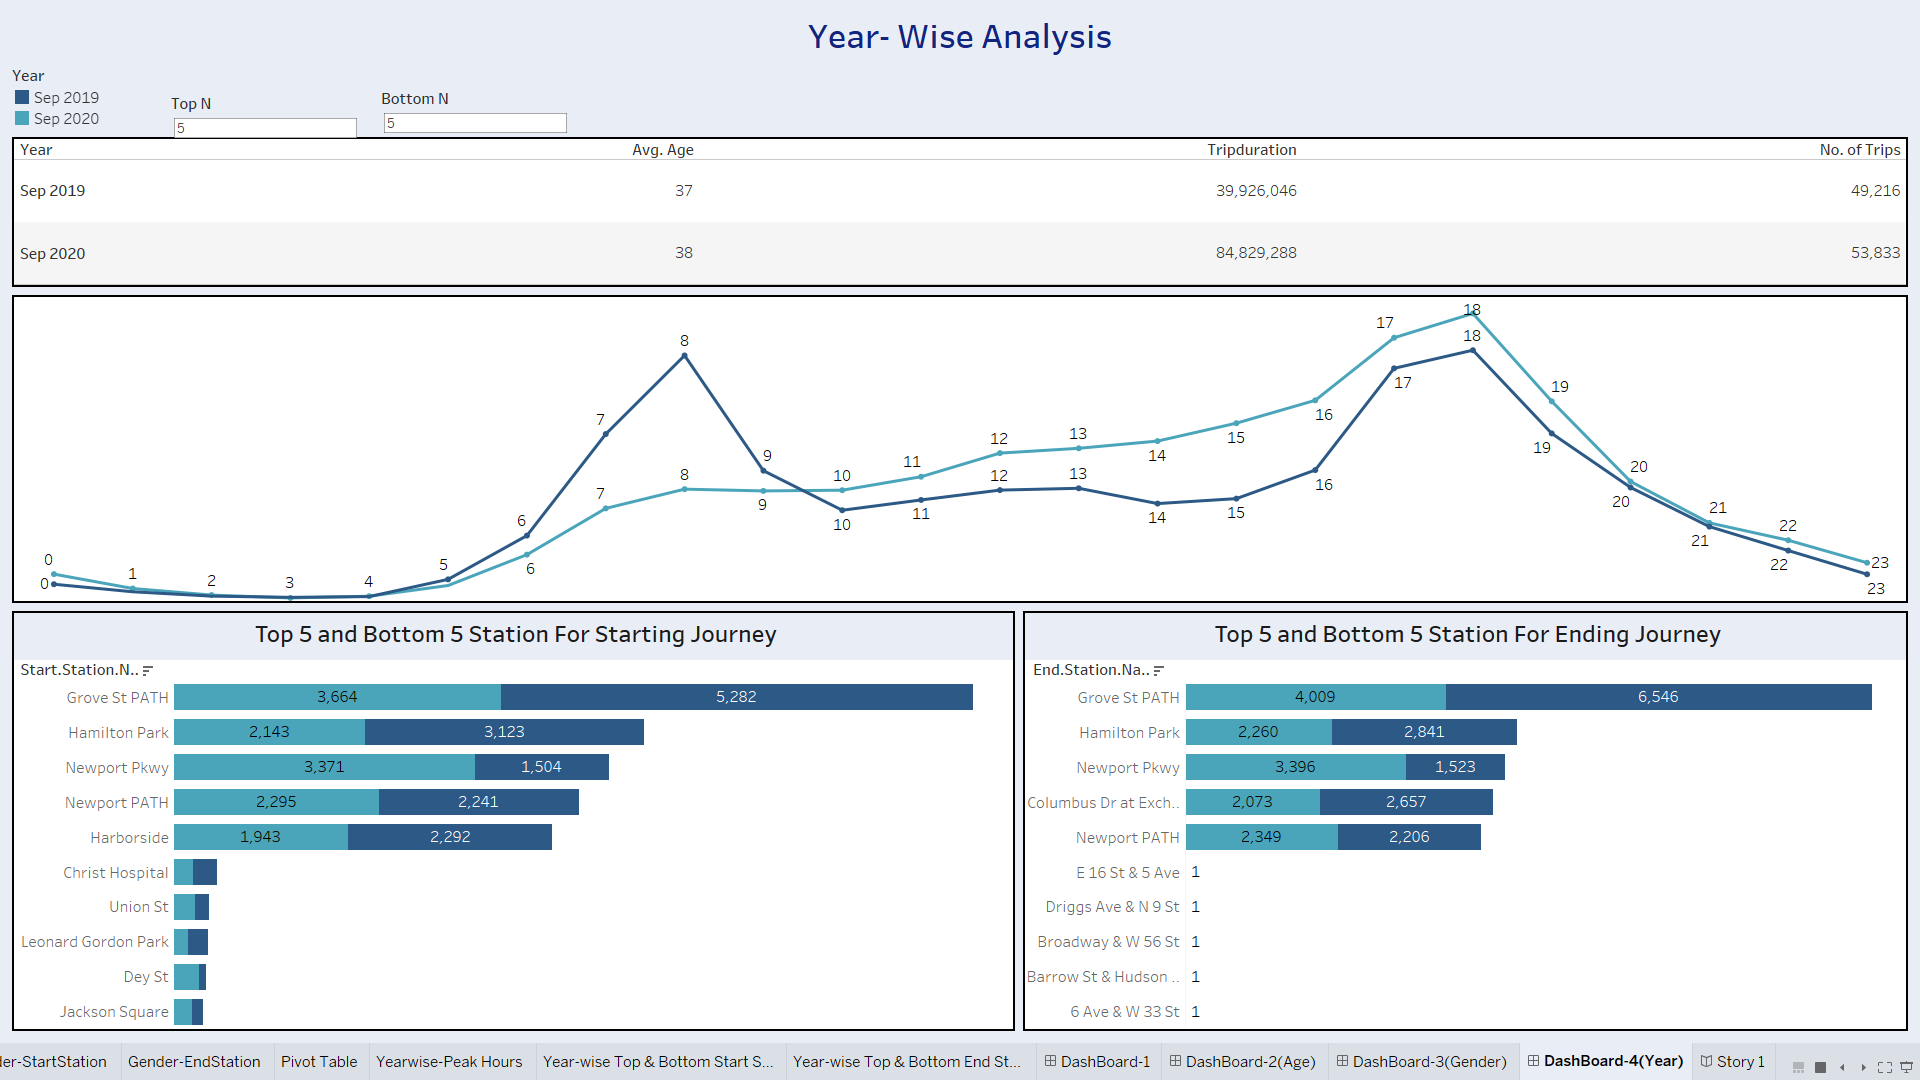

What the dashboard file says about the page in this screenshot:
{"tool":"tableau","page":{"name":"DashBoard-2(Year)","canvas":[1000,1000],"units":"permille","ordinal":1},"visuals":[{"type":"title","box":[11.5,9.5,977,63]},{"type":"legend","title":"Year-wise Top & Bottom Start Station","param":"[federated.05422gz1au1d0w10aujzp1y5lphu].[none:year:nk]","box":[11.5,72.5,977,85.6]},{"type":"parameter","param":"[Parameters].[Parameter 2]","box":[198.6,84.6,98.4,56.4]},{"type":"parameter","param":"[Parameters].[Parameter 1]","box":[89.3,89.3,98.4,56.4]},{"type":"worksheet","title":"Pivot Table","mark":"Automatic","rows":["year"],"box":[11.5,158.1,977,145.9]},{"type":"worksheet","title":"Yearwise-Peak Hours","mark":"Line","rows":["Calculation_1776670060706189313"],"cols":["Calculation_1776670060706189313"],"box":[11.5,304,977,291.7]},{"type":"worksheet","title":"Year-wise Top & Bottom Start Station","mark":"Automatic","rows":["start.station.name"],"cols":["Calculation_1776670060737310723"],"box":[11.5,595.8,518.5,394.7]},{"type":"worksheet","title":"Year-wise Top & Bottom End Station","mark":"Automatic","rows":["end.station.name"],"cols":["Calculation_1776670060737310723"],"box":[530,595.8,458.5,394.7]}]}

Visuals, with their boxes on the dashboard's canvas, which has no fixed pixel size, in thousandths of its width and height (x1, y1, x2, y2). These are canvas units, not pixel positions in the 1920x1080 screenshot, which may show the page scaled, cropped or inside an application window:
title: box=[12, 10, 988, 72]
"Year-wise Top & Bottom Start Station" legend: box=[12, 72, 988, 158]
parameter: box=[199, 85, 297, 141]
parameter: box=[89, 89, 188, 146]
"Pivot Table" worksheet: box=[12, 158, 988, 304]
"Yearwise-Peak Hours" worksheet (Line marks): box=[12, 304, 988, 596]
"Year-wise Top & Bottom Start Station" worksheet: box=[12, 596, 530, 990]
"Year-wise Top & Bottom End Station" worksheet: box=[530, 596, 988, 990]
